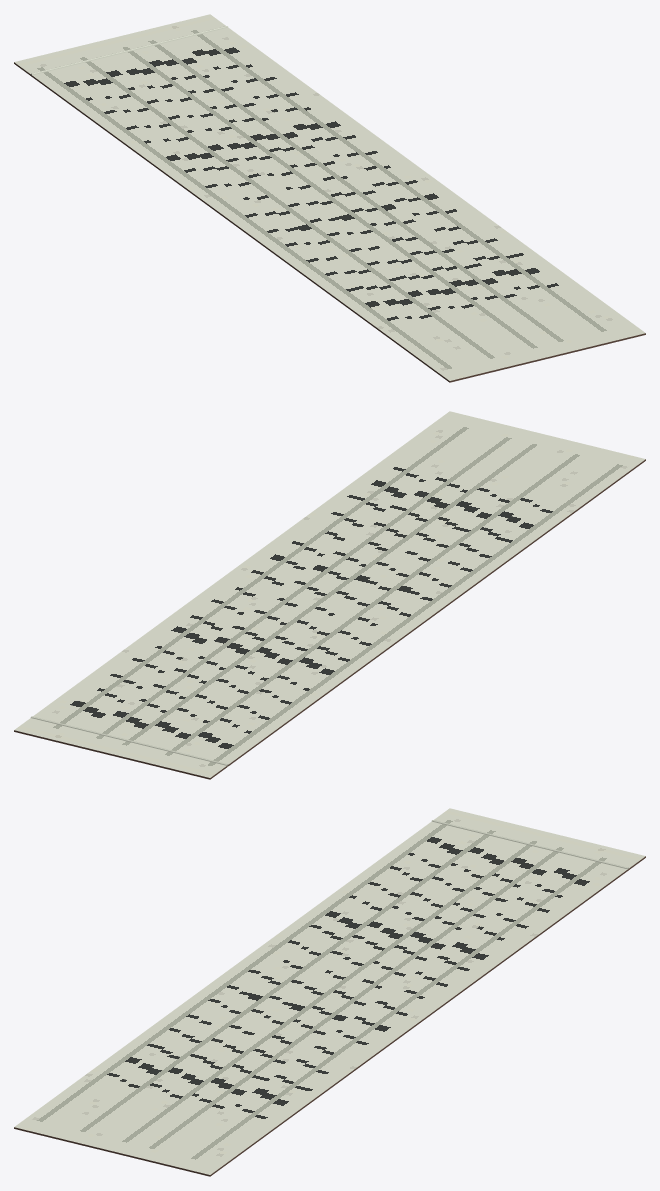
Rendered from mws_weather_data_incomplete.glb.
3 views of the same model, one above another, from view 1: azimuth 30°, elevation 25°; view 2: azimuth 150°, elevation 25°; view 3: azimuth 330°, elevation 25° (orthographic).
Parts seen in each view (by area): view 1: block_printed paper; view 2: block_printed paper, block_curled end; view 3: block_printed paper.
Boxes of the visible parts, x1,y1,x2,y2 form: block_printed paper: [14, 14, 645, 382]; block_printed paper: [14, 411, 645, 779]; block_curled end: [30, 716, 228, 766]; block_printed paper: [14, 808, 645, 1176].
Size of the model in its own units: 0.0504 by 0.000695 by 0.194.
1 material, 1 textured.
